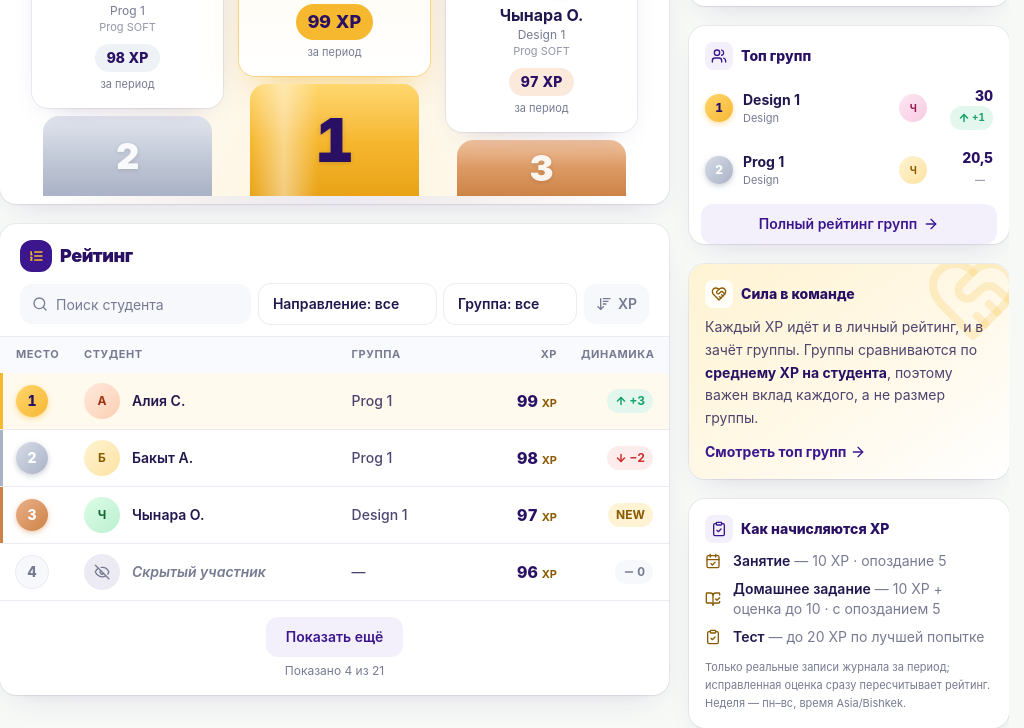
Test: Топ студентов › loads more rows page by page
(page scrolled)
Click the button "Показать ещё": [334, 637] box x1=266 y1=617 x2=403 y2=657
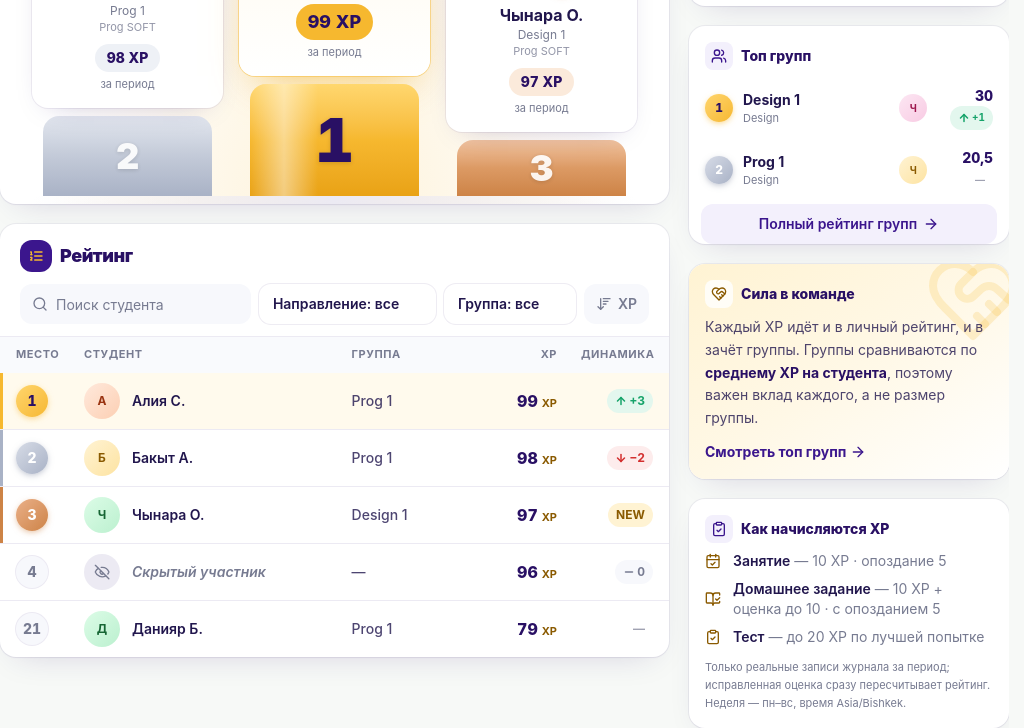
Expected: the text "Данияр Б." is shown, x1=132 y1=619 x2=203 y2=639
Expected: the button "Показать ещё" is gone
